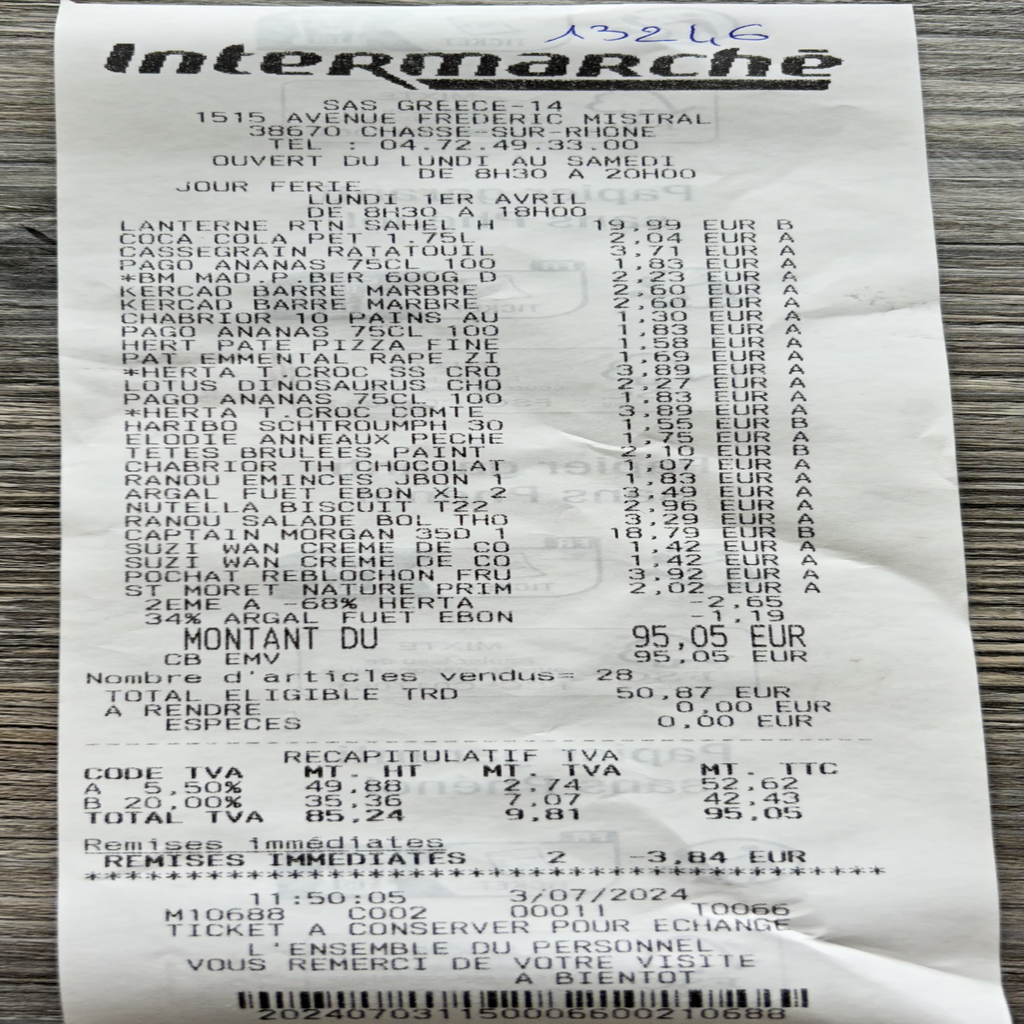recipt: (52, 0, 1013, 1024)
